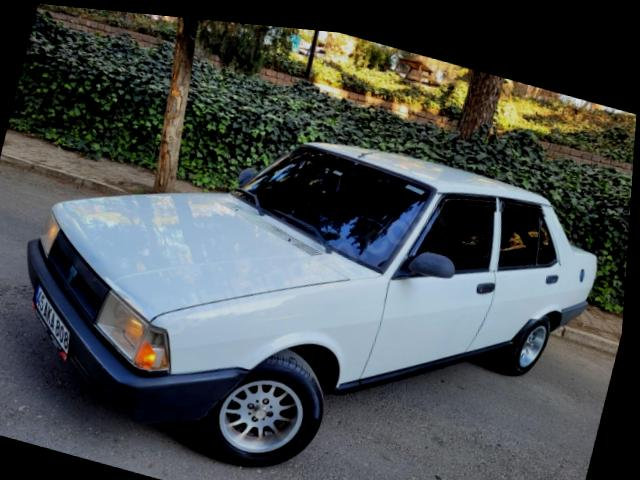plaka: (33, 284, 69, 359)
